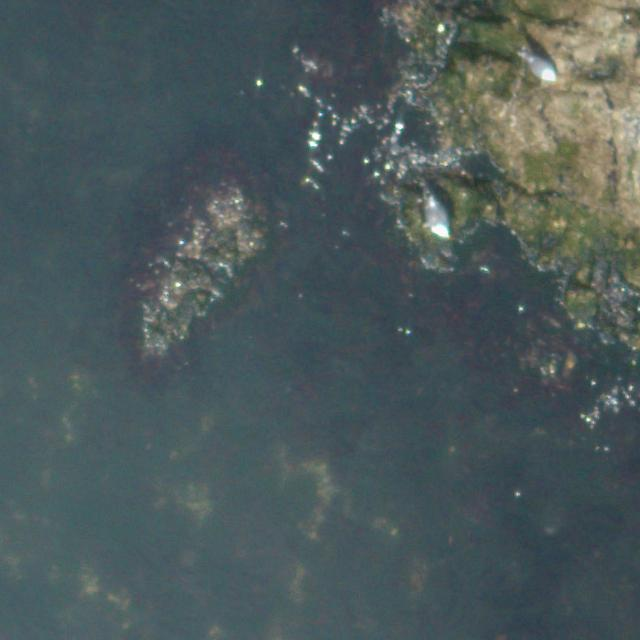umineko: (528, 54, 557, 80), (426, 201, 446, 235)
